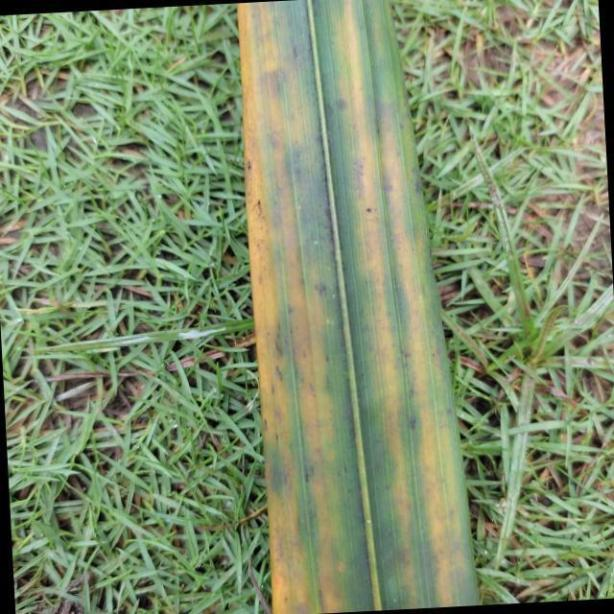Megnesium: (239, 0, 482, 614)
